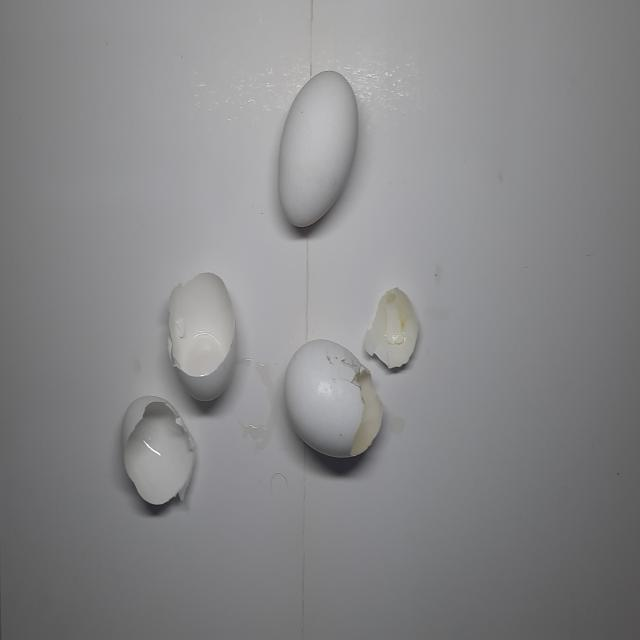egg shell: (274, 64, 362, 232), (282, 338, 387, 462), (165, 269, 238, 403), (120, 392, 196, 508), (362, 280, 418, 375)
